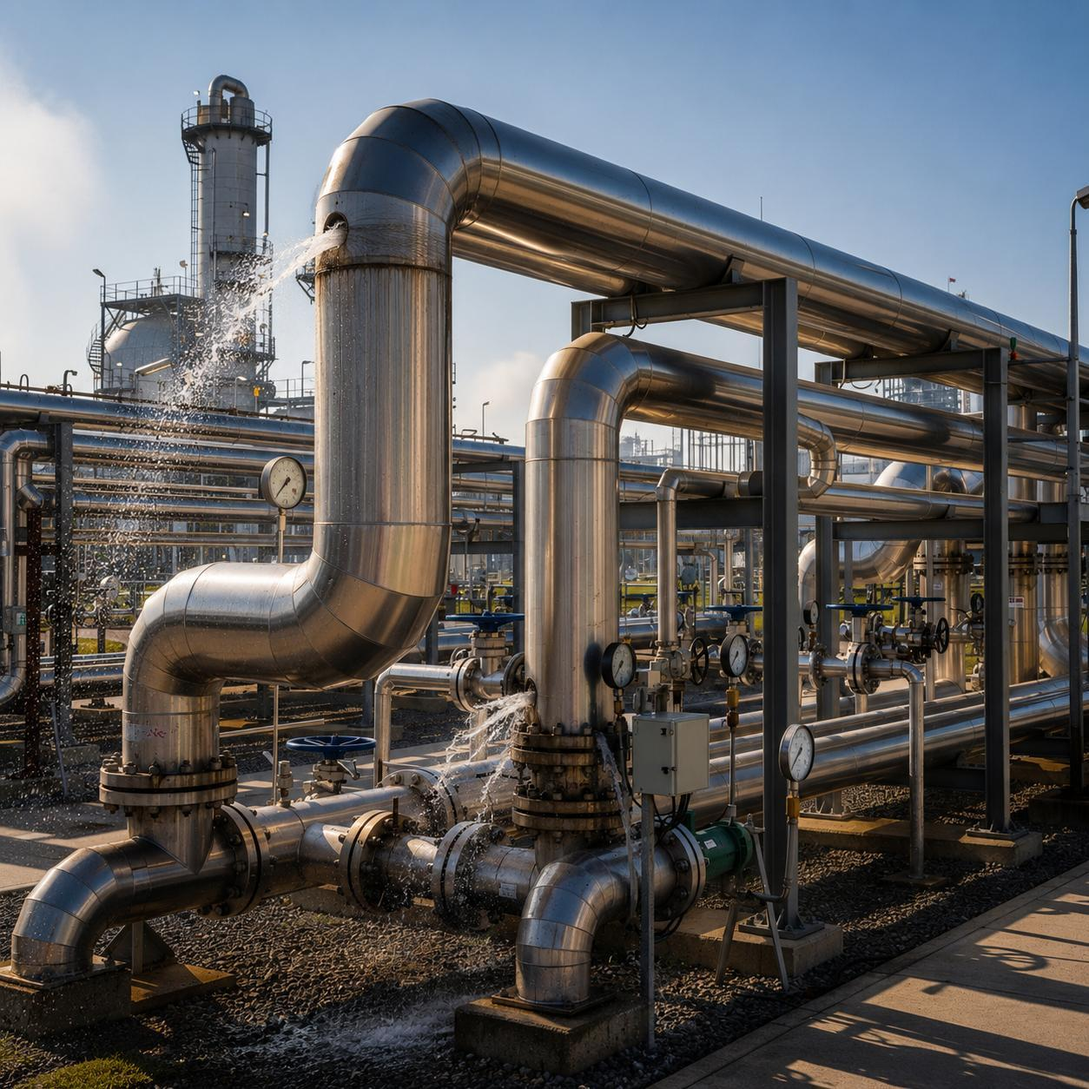pipe burst: (94, 208, 352, 582), (436, 676, 541, 823)
